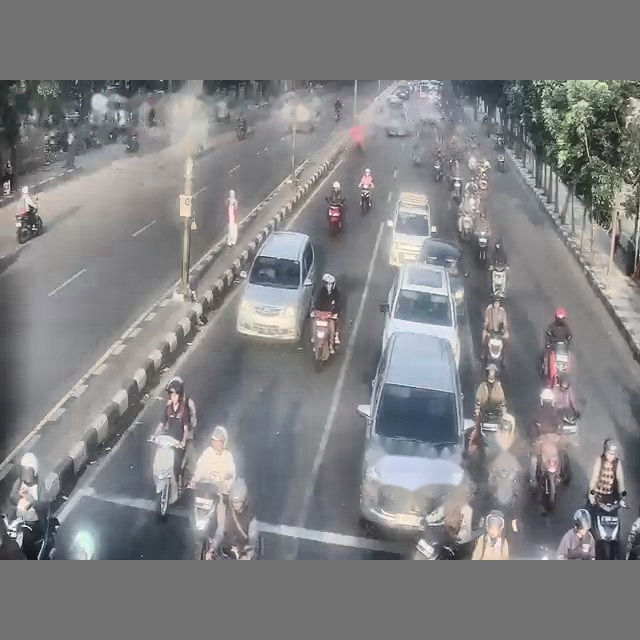Mobil: (357, 333, 467, 534), (236, 231, 315, 342), (380, 263, 460, 365), (419, 238, 466, 317), (387, 192, 436, 266), (386, 113, 410, 136), (395, 84, 409, 99)
Motor: (535, 410, 576, 512), (0, 512, 59, 559), (149, 434, 181, 517), (536, 434, 567, 512), (592, 493, 626, 559), (193, 482, 220, 559), (310, 310, 334, 371), (541, 341, 570, 389), (15, 209, 43, 244), (484, 331, 503, 375), (489, 264, 507, 298), (327, 203, 342, 234), (476, 229, 488, 262), (460, 211, 473, 241), (360, 186, 371, 214), (126, 135, 139, 152), (236, 122, 247, 140), (433, 160, 442, 181), (497, 154, 504, 172), (334, 108, 341, 121)
